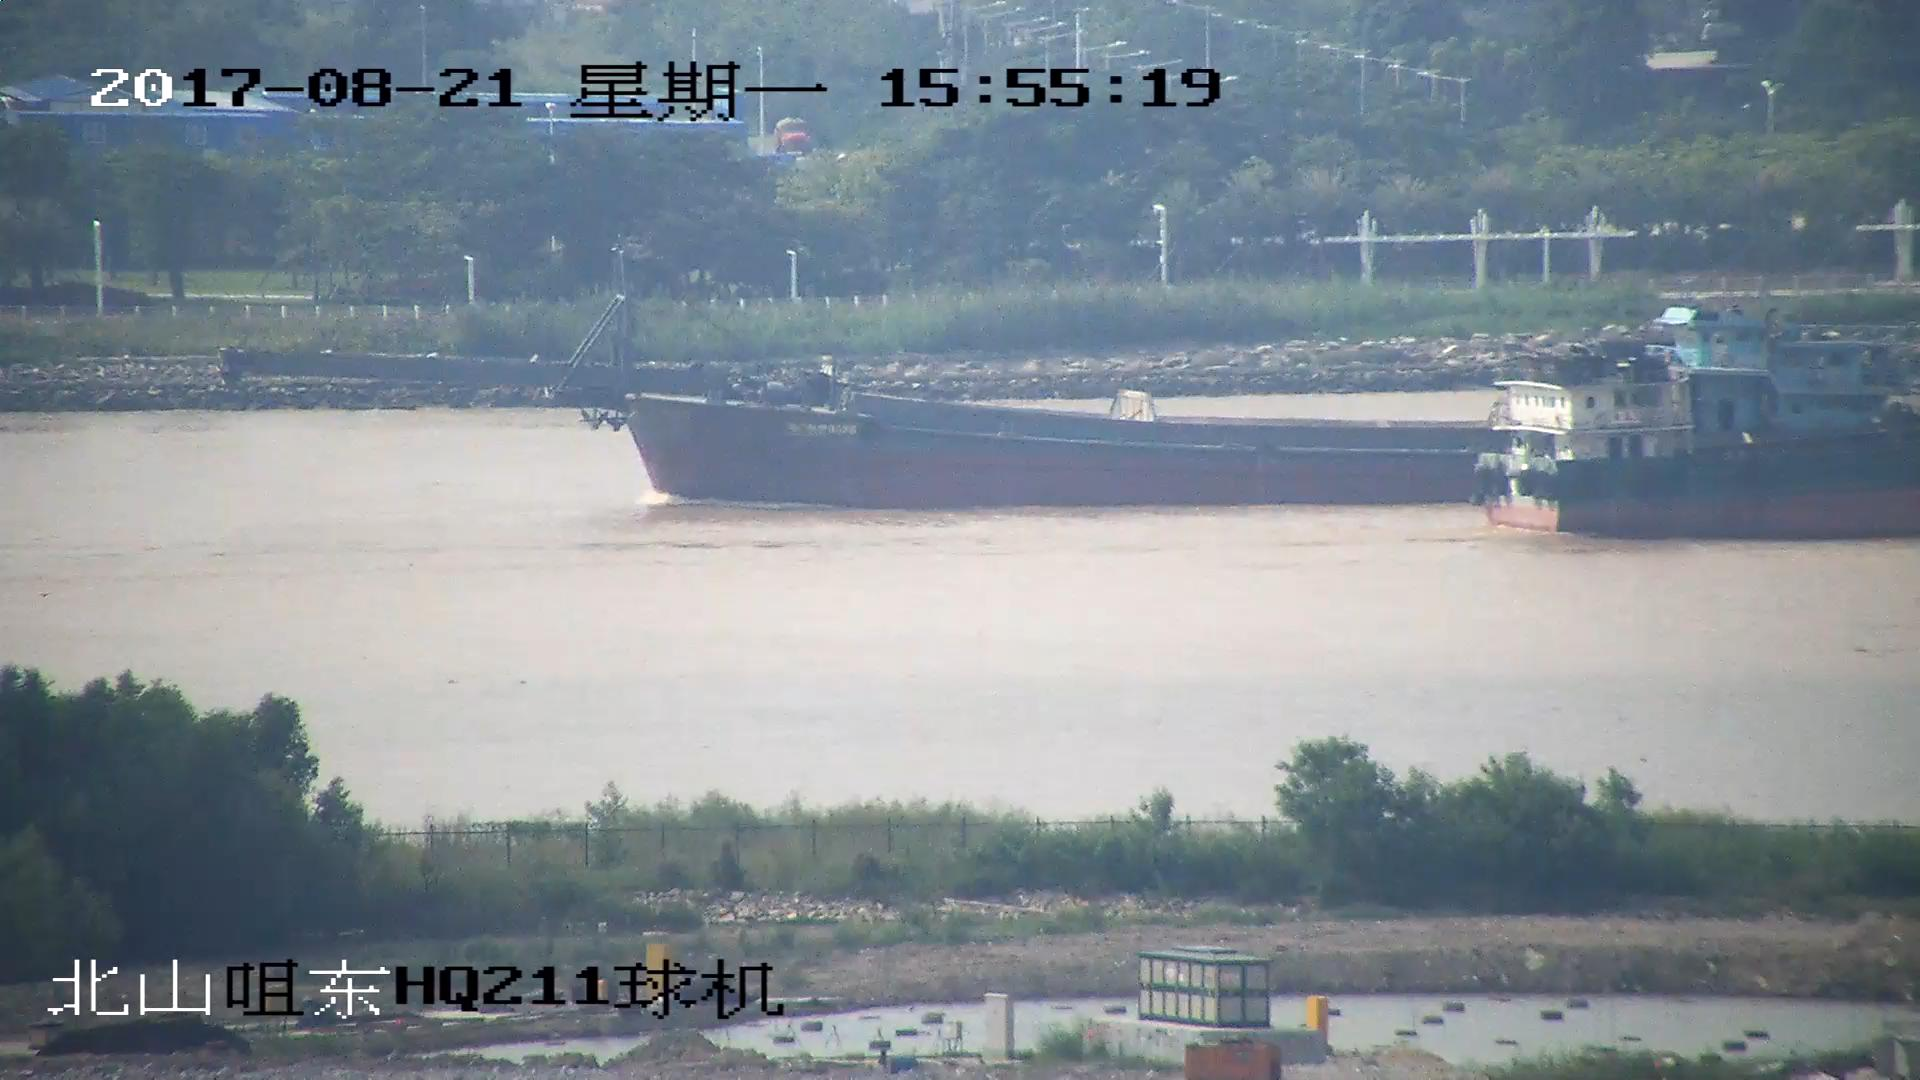bulk cargo carrier: (216, 256, 1901, 501)
general cargo ship: (1474, 348, 1920, 539)
